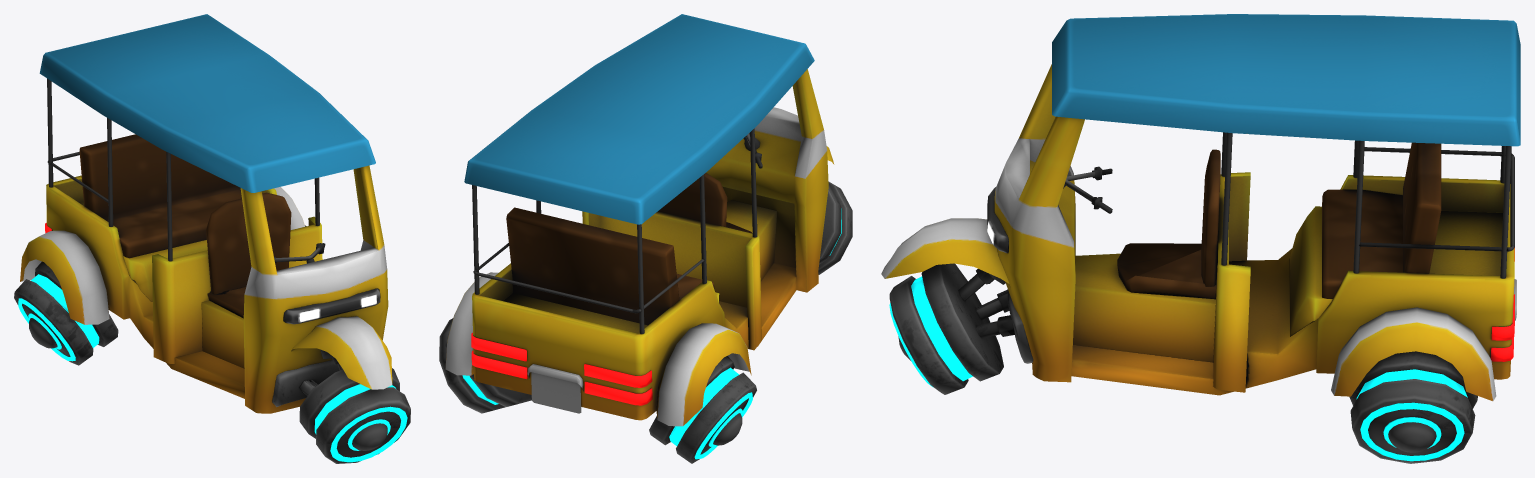
Rendered from Tuktuk v1.0.fbx.
The picture shows the model from 3 angles, left to right: view 1: azimuth 30°, elevation 25°; view 2: azimuth 150°, elevation 25°; view 3: azimuth 270°, elevation 25°; orthographic projection. The views are drawn at different scales.
Parts seen in each view (by area): view 1: TukuTuku_F_Tire_Main_GEO_aiStandardSurface1_0.003; view 2: TukuTuku_F_Tire_Main_GEO_aiStandardSurface1_0.003; view 3: TukuTuku_F_Tire_Main_GEO_aiStandardSurface1_0.003.
Part boxes in pixels (x1,y1,x2,y2): TukuTuku_F_Tire_Main_GEO_aiStandardSurface1_0.003: (14,14,410,463); TukuTuku_F_Tire_Main_GEO_aiStandardSurface1_0.003: (439,14,852,463); TukuTuku_F_Tire_Main_GEO_aiStandardSurface1_0.003: (881,14,1520,463).
Size of the model in its own units: 2.24 by 2.16 by 3.56.
Materials: 1 (1 with a texture image).
